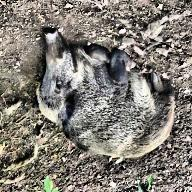boar: (35, 28, 190, 162)
